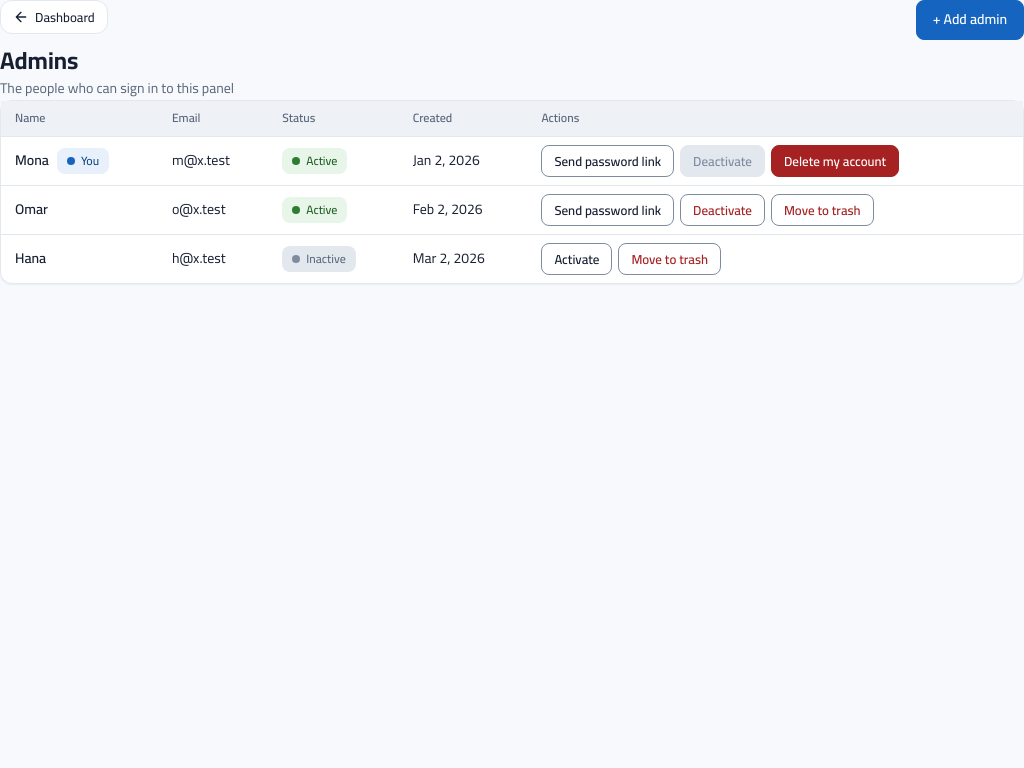
Test: adding an admin › needs a name and a valid email before anything is created
Click the button "+ Add admin" at [970, 20], box [916,0,1023,40]
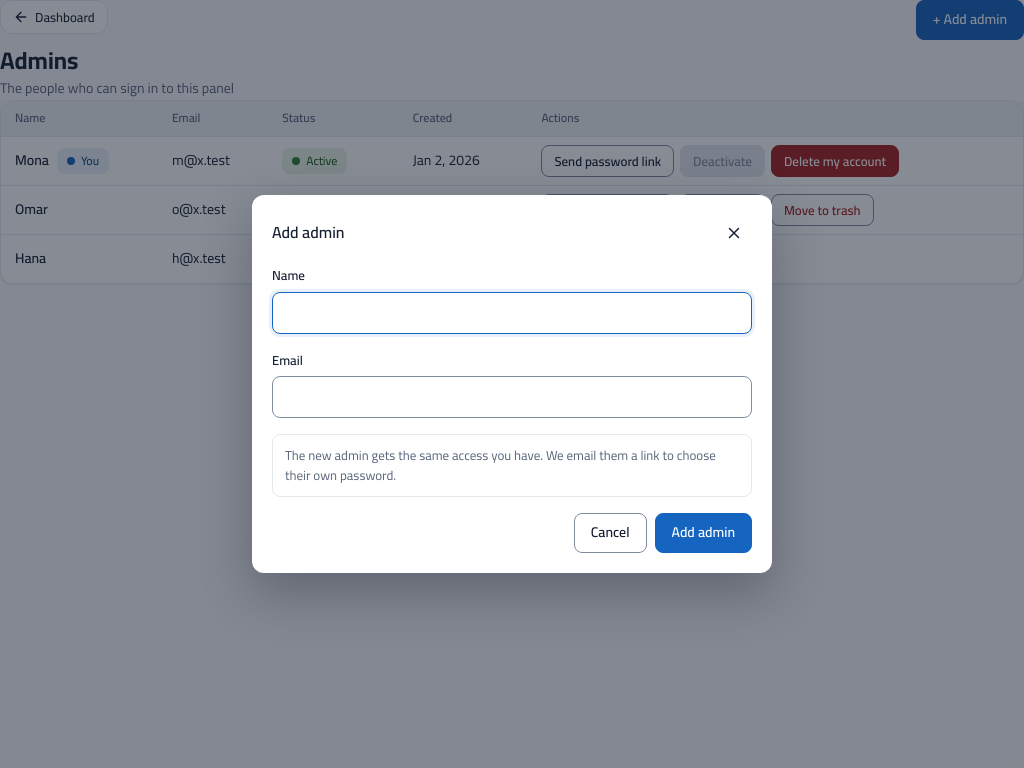
Type "nope" into the field labelled "Email" at [512, 397], box [272,376,752,418]
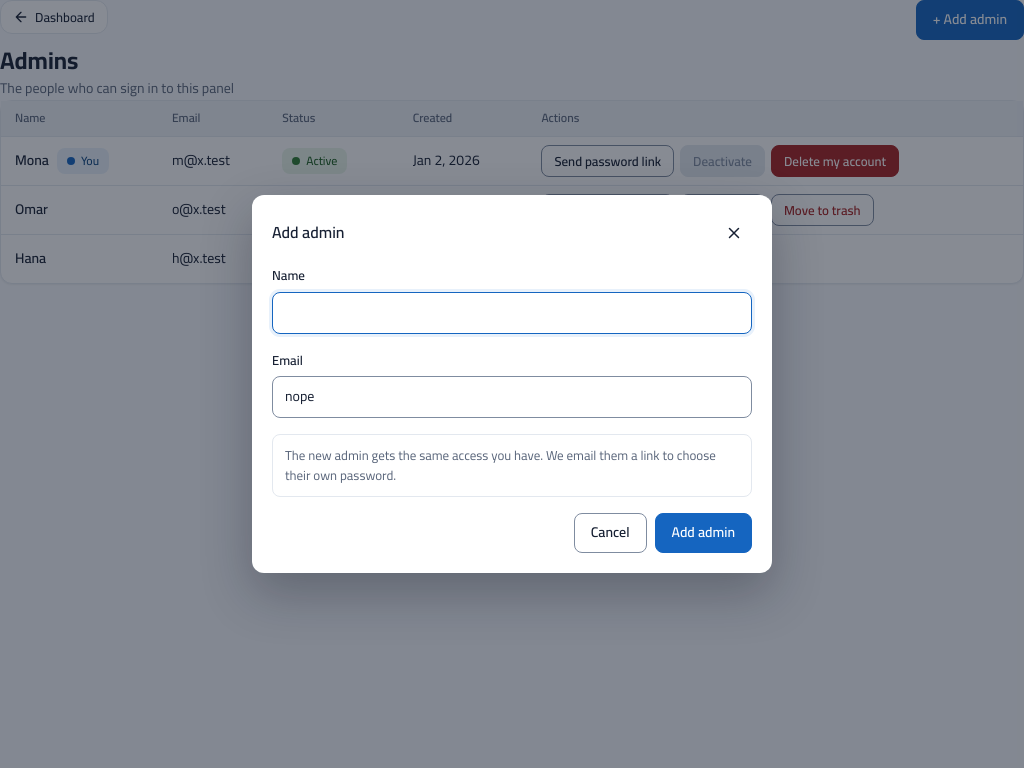
Click the button "Add admin" at [703, 533], box [655,513,752,553]
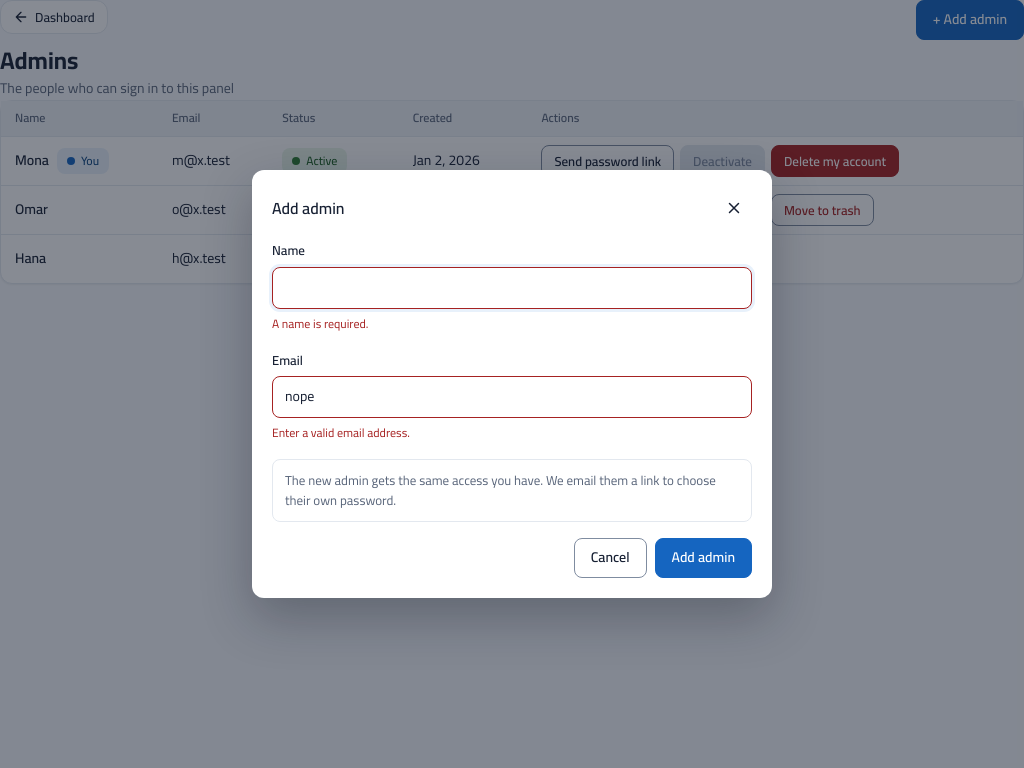
Expected: the text "A name is required." is shown, [272,312,368,335]
Expected: the text "Enter a valid email address." is shown, [272,421,410,444]
